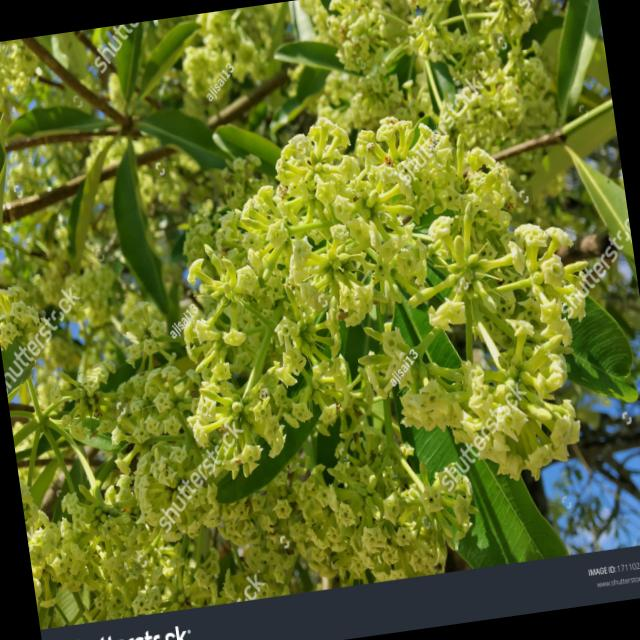Indian Pulai: (21, 297, 492, 640), (0, 0, 431, 338), (372, 136, 640, 587), (170, 122, 490, 444), (301, 0, 609, 256)
